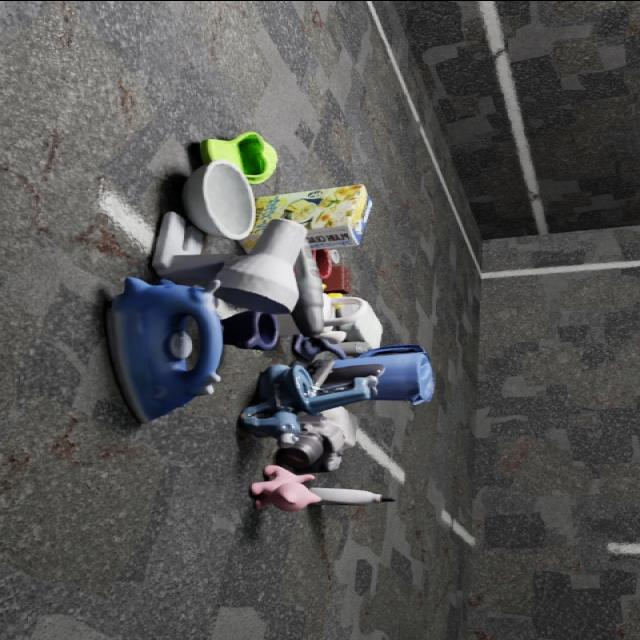Other Objects: (153, 212, 305, 314), (240, 184, 372, 250), (183, 159, 255, 240), (199, 131, 277, 184), (251, 464, 323, 511), (292, 248, 325, 336), (223, 311, 279, 350), (312, 488, 395, 505), (324, 264, 351, 292)
